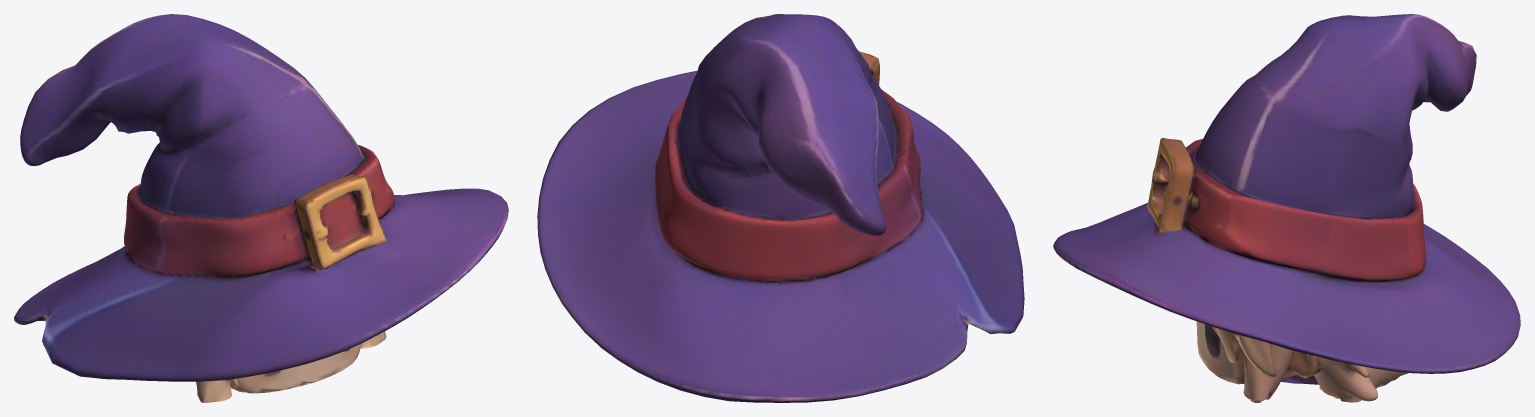
Rendered from head_default.glb.
3 renders of one model, left to right at view 1: azimuth 30°, elevation 25°; view 2: azimuth 150°, elevation 25°; view 3: azimuth 270°, elevation 25°, orthographic. The views are drawn at different scales.
Parts seen in each view (by area): view 1: HeadBase; view 2: HeadBase; view 3: HeadBase.
Boxes of the visible parts, x1,y1,x2,y2 form: HeadBase: [14, 14, 508, 402]; HeadBase: [537, 14, 1024, 402]; HeadBase: [1053, 14, 1520, 402].
Size of the model in its own units: 0.7265 by 0.4987 by 0.6775.
1 material, 1 textured.
